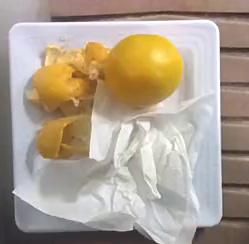fruit: (105, 35, 182, 108)
